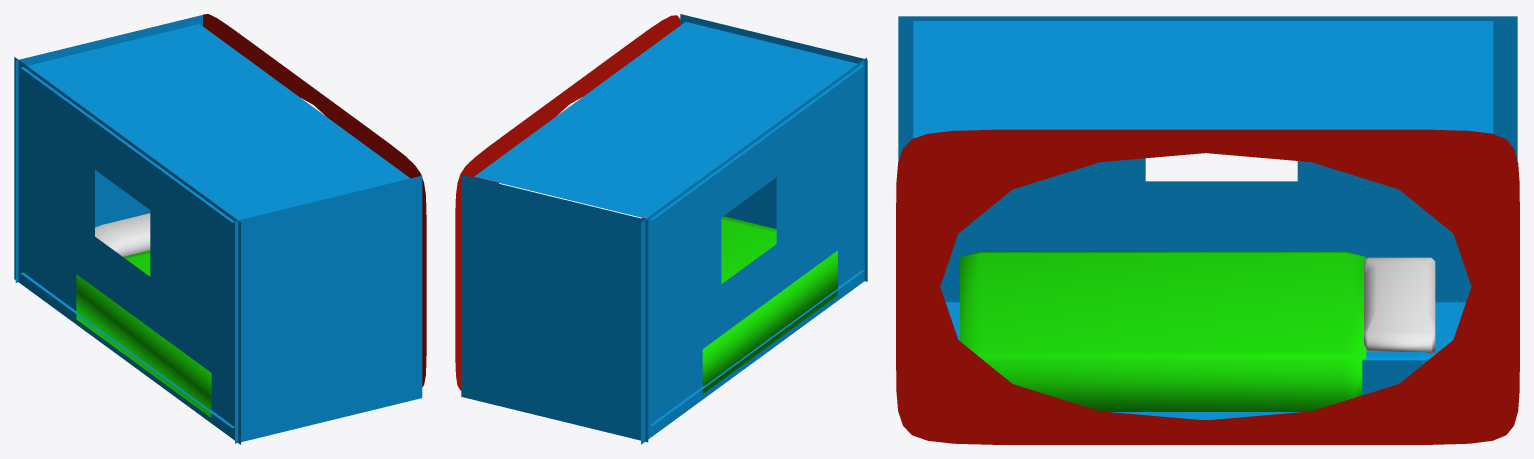
The model's file is Crew Quaters2.3.fbx.
3 views of the same model, side by side, from view 1: azimuth 30°, elevation 25°; view 2: azimuth 150°, elevation 25°; view 3: azimuth 270°, elevation 25° (orthographic). The views are drawn at different scales.
Visible parts, largest first — view 1: Plane.005, Plane, Cube.002; view 2: Plane.005, Plane; view 3: Plane.005, Plane, Cube.002.
Boxes of the visible parts, <box> form: Plane.005: <box>14,15,422,444</box>; Plane: <box>203,14,426,386</box>; Cube.002: <box>95,213,150,256</box>; Plane.005: <box>461,14,867,444</box>; Plane: <box>455,15,680,390</box>; Plane.005: <box>898,16,1517,420</box>; Plane: <box>896,129,1519,444</box>; Cube.002: <box>1364,257,1435,356</box>.
Size of the model in its own units: 250 by 292 by 524.
